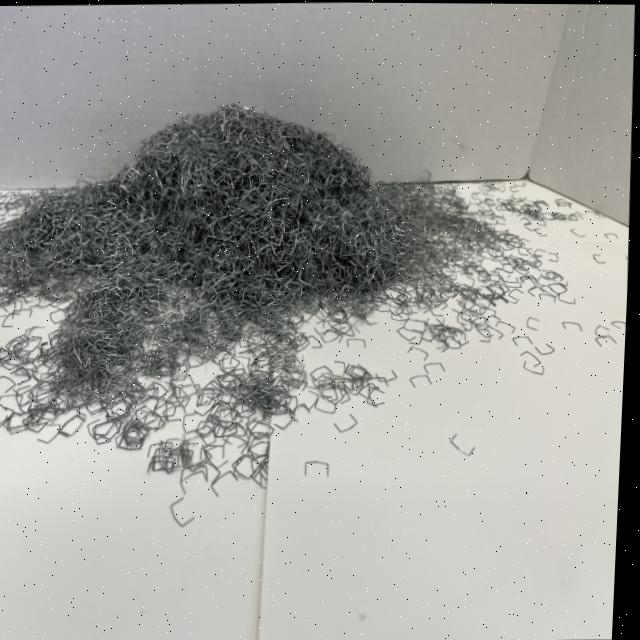staples: (0, 96, 419, 421)
